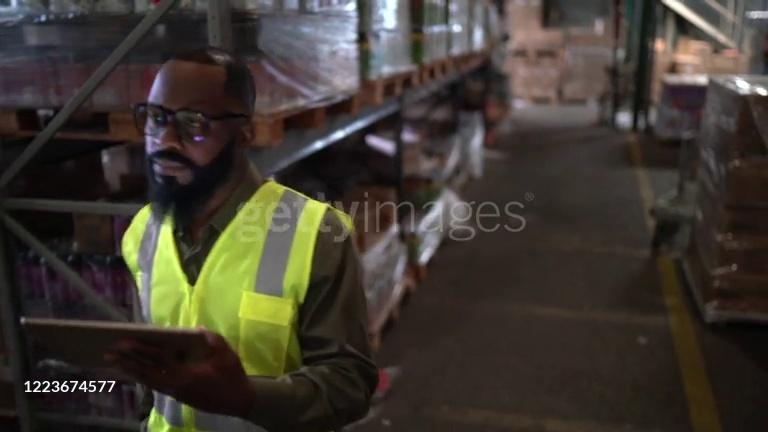person: (89, 43, 381, 432)
